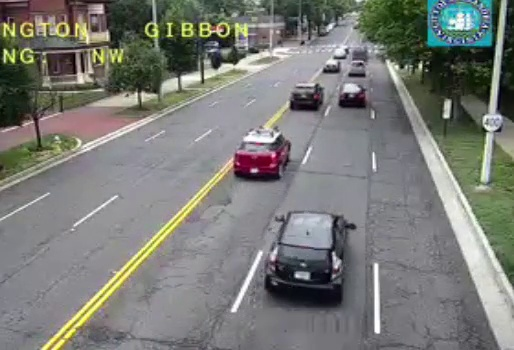car: (264, 211, 348, 296), (234, 129, 290, 176), (291, 83, 323, 108), (339, 83, 365, 105)
